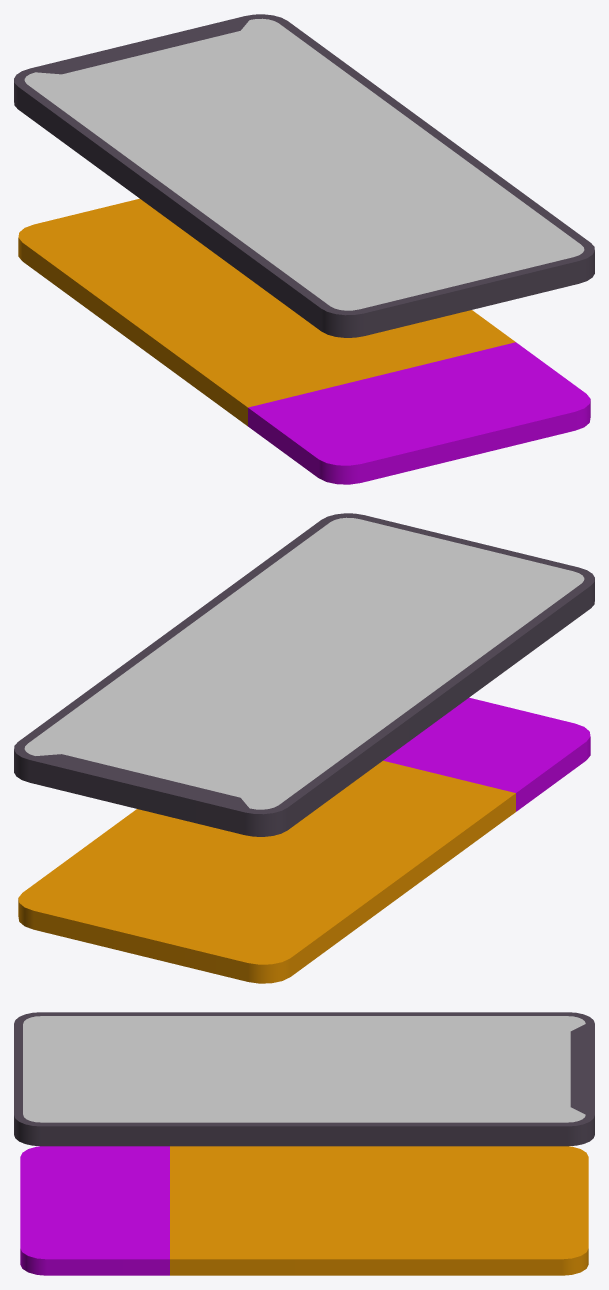
File: SM_Smartphone (2).fbx
The picture shows the model from 3 angles, top to bottom: view 1: azimuth 30°, elevation 25°; view 2: azimuth 150°, elevation 25°; view 3: azimuth 270°, elevation 25°; orthographic projection. The views are drawn at different scales.
Parts seen in each view (by area): view 1: polySurface4, polySurface5, polySurface6; view 2: polySurface4, polySurface5, polySurface6; view 3: polySurface4, polySurface5, polySurface6.
Part boxes in pixels (x1,y1,x2,y2): polySurface4: [14, 14, 594, 337]; polySurface5: [18, 198, 515, 426]; polySurface6: [248, 342, 590, 484]; polySurface4: [14, 513, 594, 836]; polySurface5: [18, 760, 515, 983]; polySurface6: [383, 697, 590, 811]; polySurface4: [14, 1012, 594, 1146]; polySurface5: [170, 1146, 588, 1275]; polySurface6: [20, 1146, 169, 1275].
Size of the model in its own units: 0.5018 by 0.3065 by 1.08.
